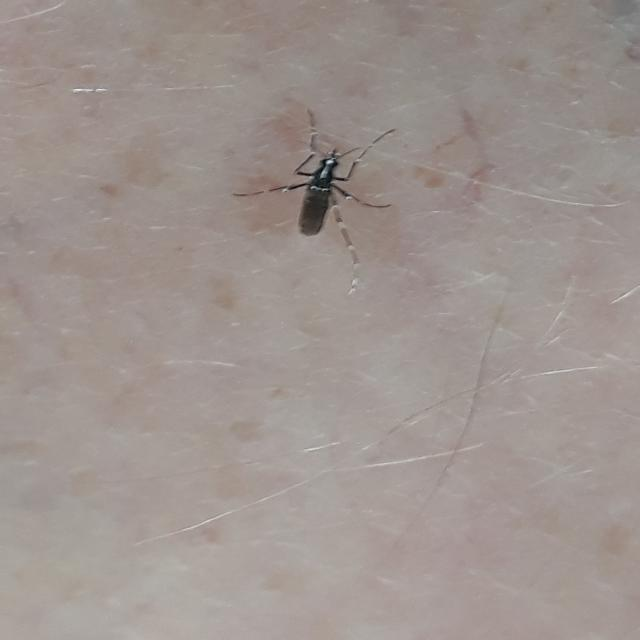albopictus: (224, 105, 406, 296)
